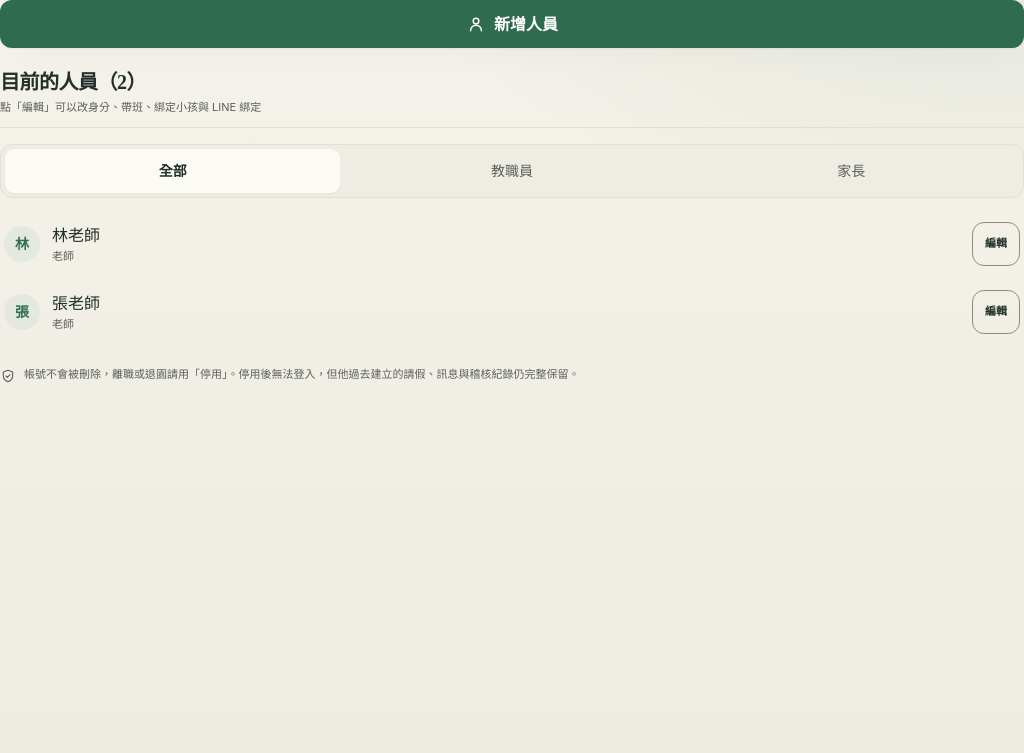
Test: 人員管理的編輯面板 › 點編輯會打開那個人的面板
The image size is (1024, 753).
Click the button with aria-label "編輯 林老師" at [996, 244], box [972,222,1020,266]
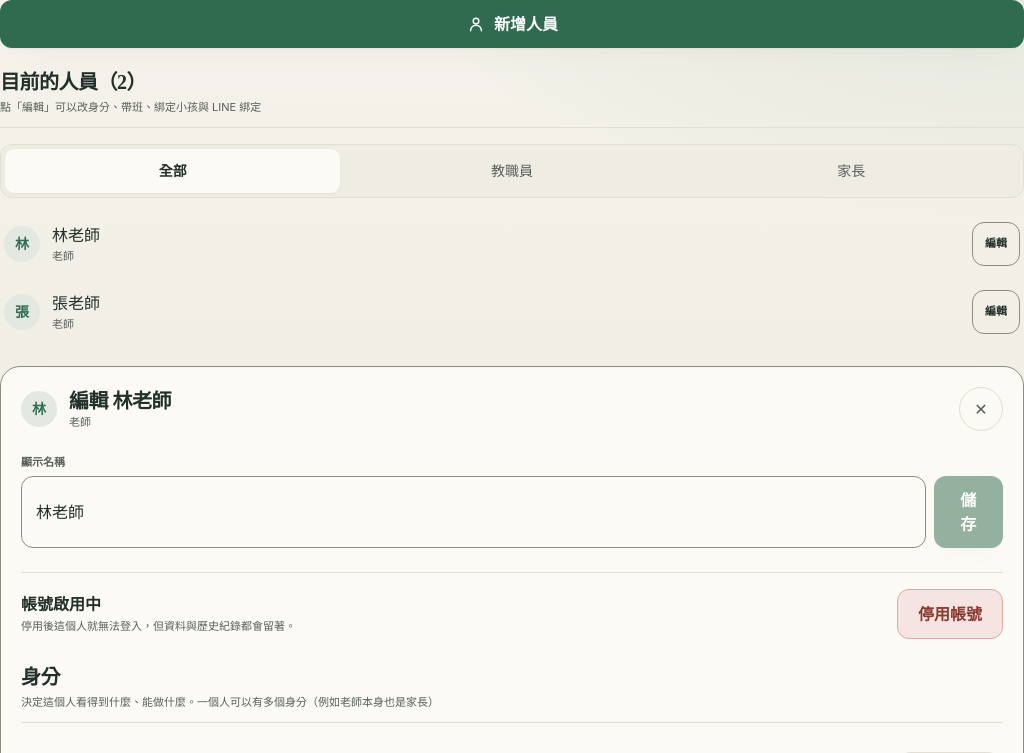
expect the text "編輯 林老師" is shown: met, box [69,390,171,412]
expect the field labelled "顯示名稱 儲存" holds "林老師": met, box [21,476,926,548]
